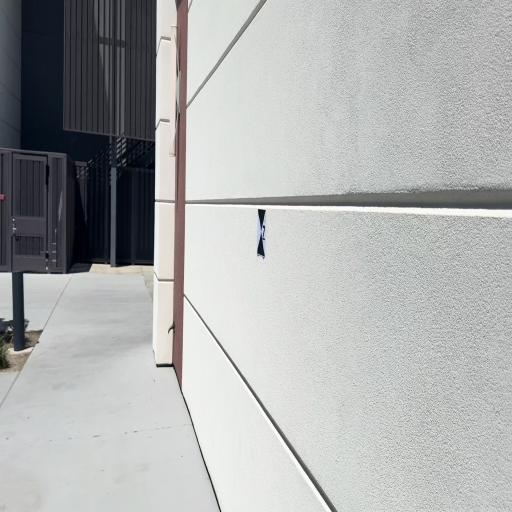target7: (257, 209, 267, 259)
